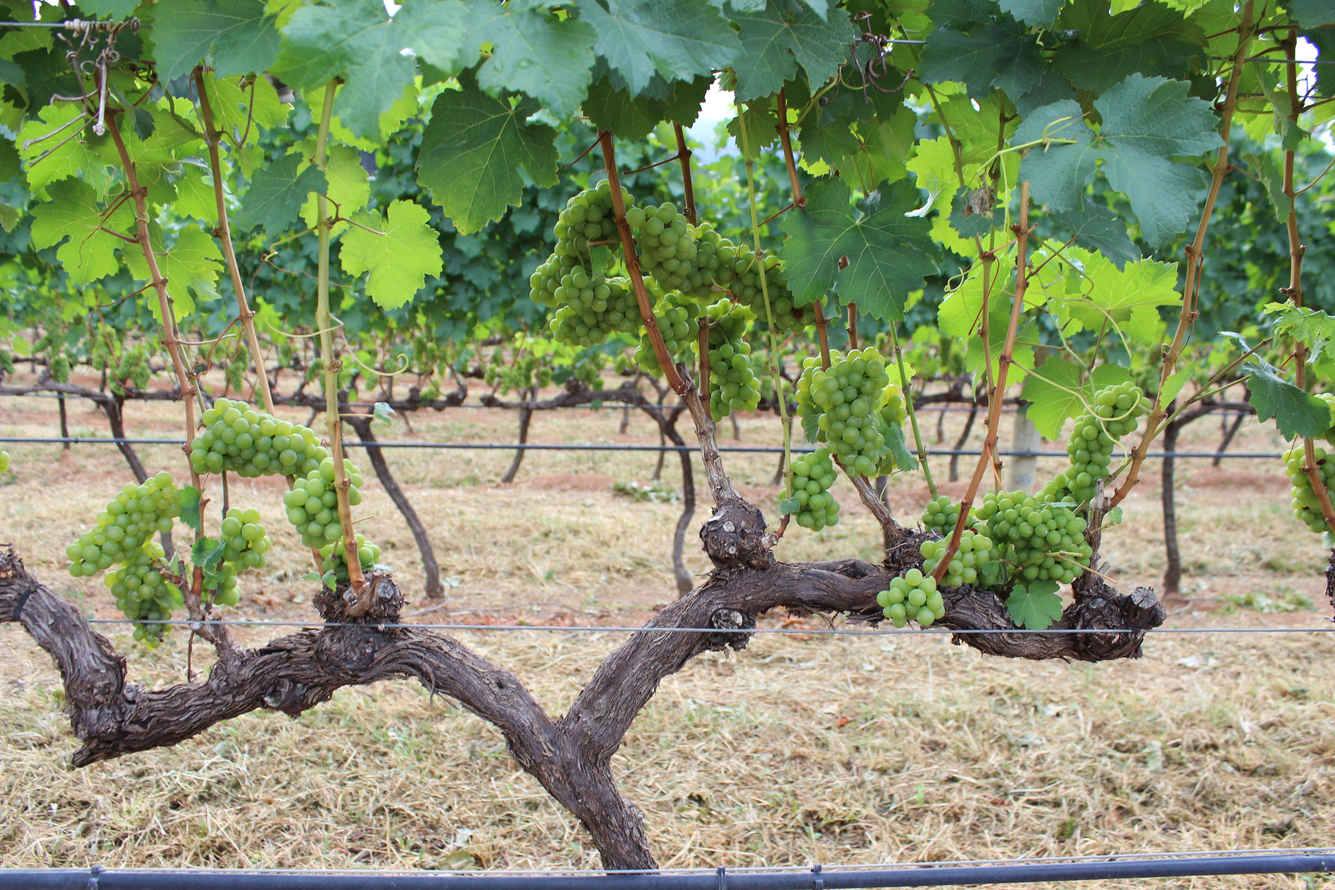leaf: (418, 72, 558, 234), (782, 178, 937, 320), (580, 0, 740, 95), (732, 3, 855, 101), (340, 200, 442, 309), (31, 179, 132, 285), (152, 0, 279, 81), (235, 154, 327, 237), (1050, 202, 1141, 269), (1022, 356, 1085, 440), (1005, 579, 1063, 630), (999, 0, 1063, 27)
